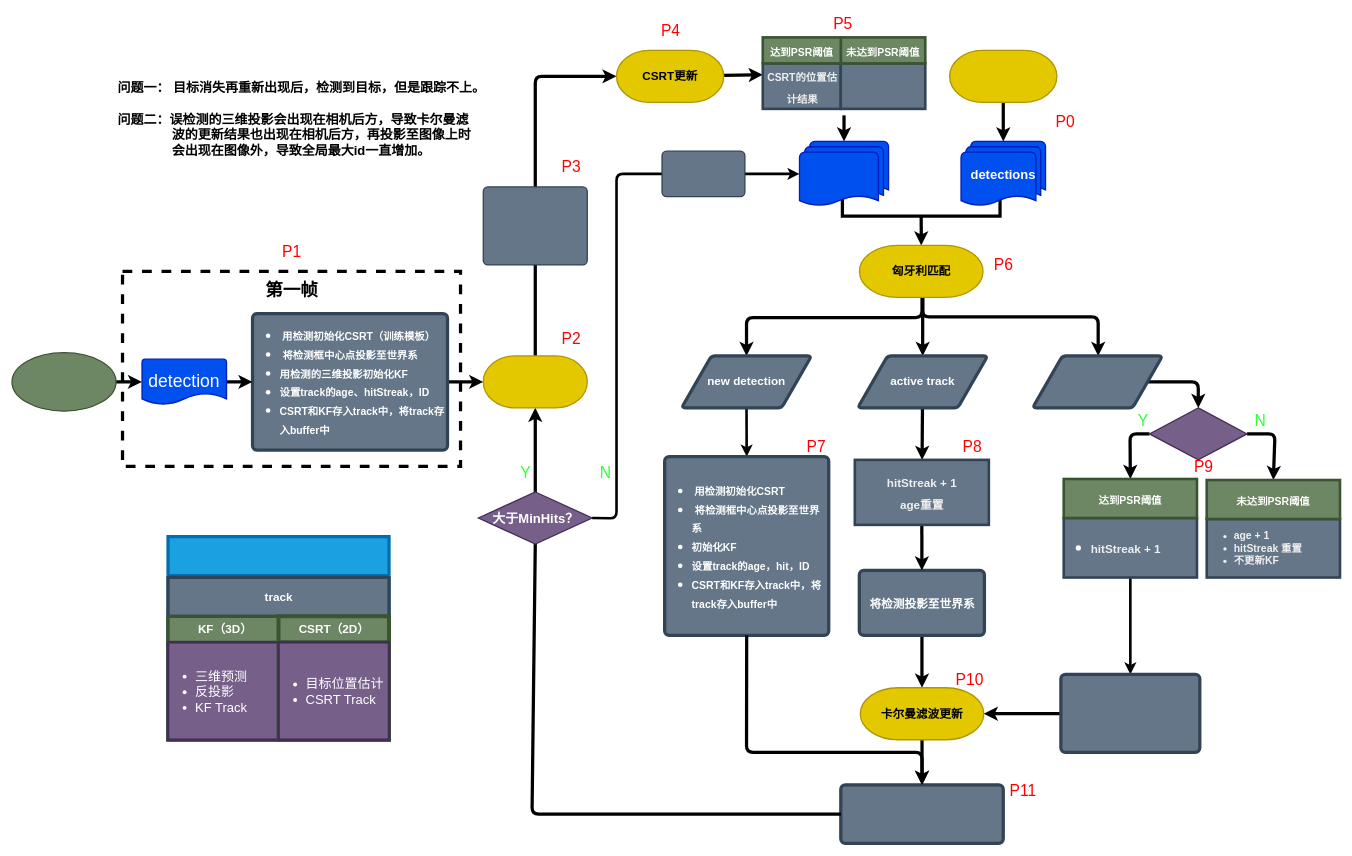
This 1352x856 diagram has some shape labels left out. The shapes that lost their labels are listed below. From the top down, each one's box as (x1, y1, x2, y2) in pixels, then its label:
(839, 62, 926, 110): KF预测值反投影得到的搜索区域
(949, 49, 1057, 103): YOLO
(661, 150, 745, 197): 上一帧CSRT的跟踪结果
(799, 140, 889, 207): tracks
(482, 186, 588, 265): 将卡尔曼滤波的预测反投影至图像系，生成搜索区域
(11, 352, 116, 411): start
(482, 355, 588, 408): 卡尔曼滤波预测
(1031, 354, 1164, 409): inactive track
(1149, 407, 1247, 460): 大于PSR？
(166, 535, 390, 741): track Buffer
(1059, 672, 1201, 754): 用CSRT上一帧跟踪结果（ 与上一帧检测加权 ） 投影至世界系
(839, 783, 1005, 845): 删除age大于maxAge的Track
